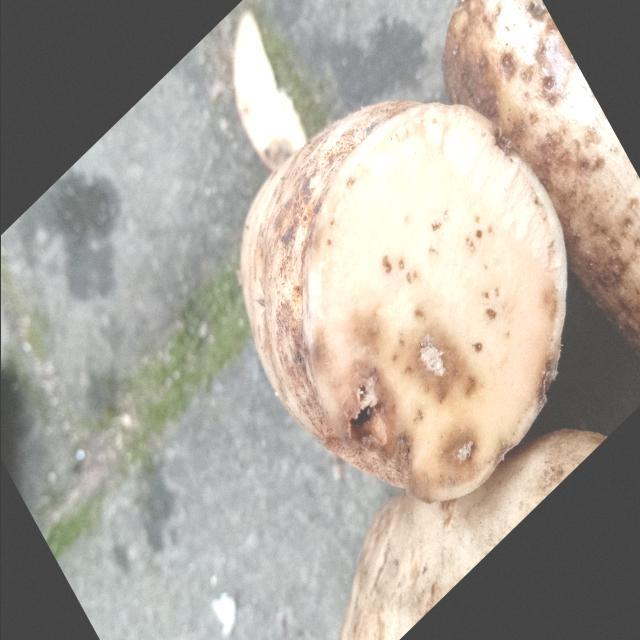Sick Sweet Potato_Tuber Rot: (304, 103, 566, 502)
